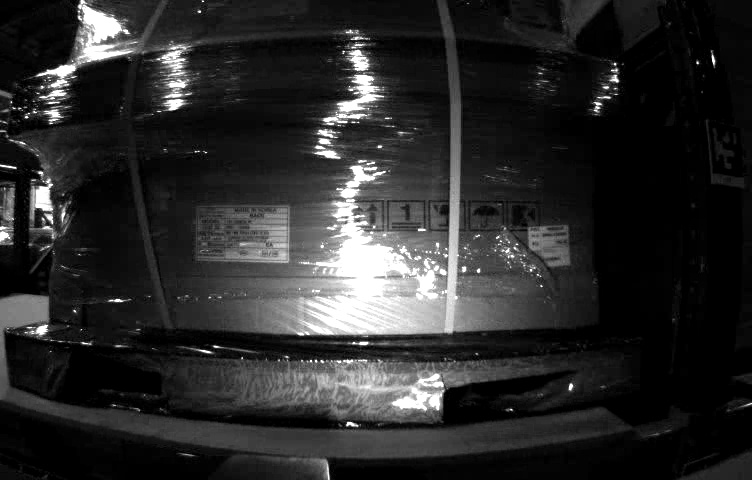True Barcode: (526, 224, 572, 266)
